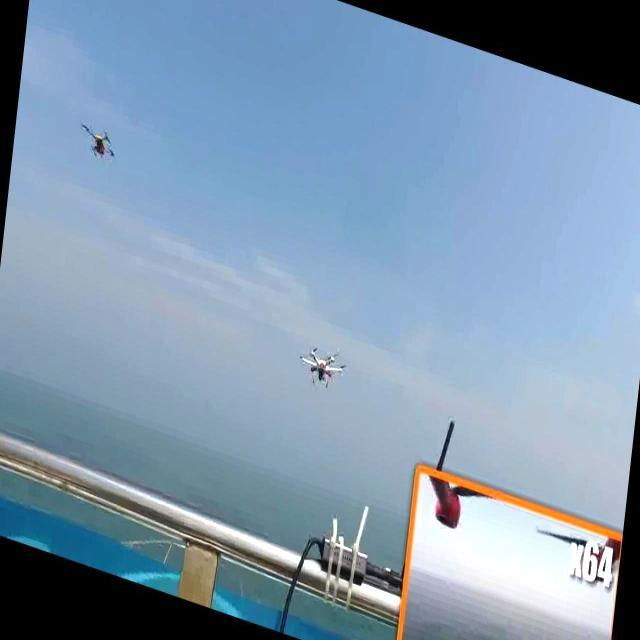drone: (293, 328, 353, 405), (77, 116, 124, 178)
